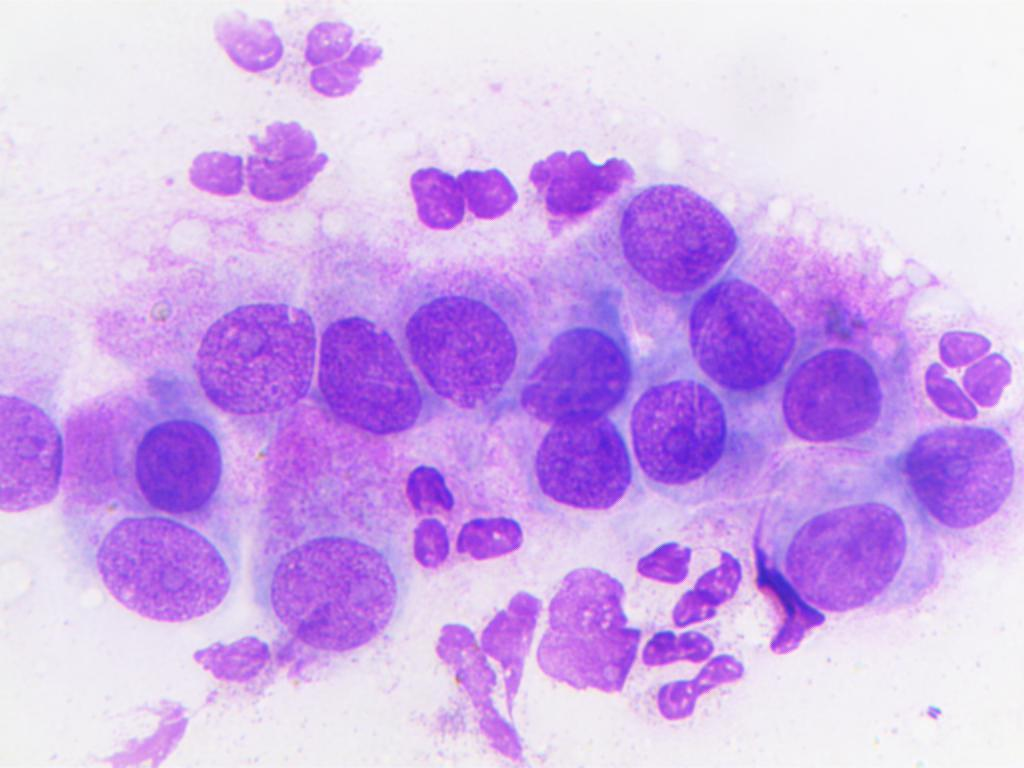artifact: (430, 587, 548, 768), (540, 559, 637, 708), (527, 146, 634, 228)
epithelial: (252, 438, 402, 668), (62, 512, 240, 630), (778, 477, 905, 629), (411, 253, 518, 431), (679, 261, 813, 401), (520, 258, 628, 420), (605, 181, 741, 296), (193, 294, 317, 412), (318, 313, 422, 438), (774, 340, 891, 444), (629, 382, 728, 502), (901, 427, 1023, 520), (121, 415, 232, 513), (0, 386, 76, 520), (520, 416, 628, 509), (395, 144, 464, 232), (459, 147, 521, 227)
erythrocyte: (148, 296, 178, 324)
neutrophil: (396, 444, 535, 584), (185, 110, 342, 228), (629, 624, 776, 730), (619, 530, 758, 630), (906, 311, 1014, 422), (297, 19, 388, 98), (209, 8, 289, 82)
